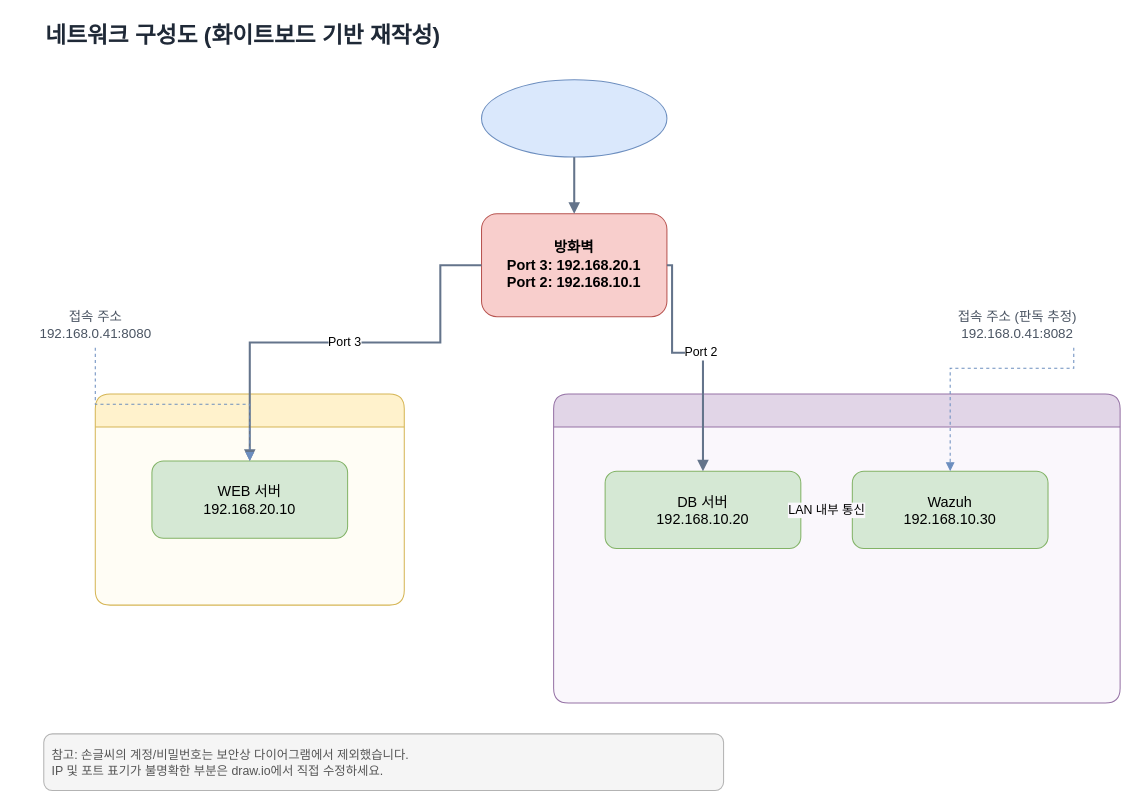
Image size: 1142x809. Some labels were removed from this diagram. Here are the shapes that lost their labels. From the top down, the box of each, then its label:
(480, 79, 667, 157): WAN 192.168.0.1
(94, 393, 404, 605): DMZ
(553, 393, 1120, 703): LAN
